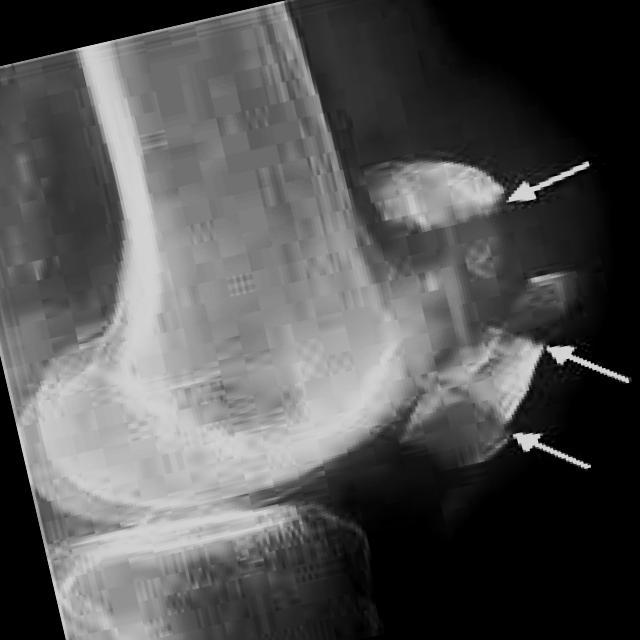Comminuted Fracture: (455, 175, 513, 227), (466, 406, 514, 454)
